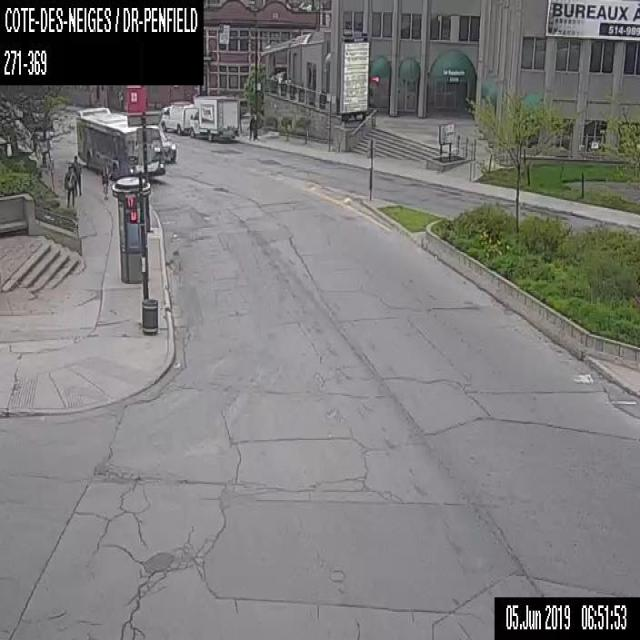bus: (76, 104, 166, 179)
pedestrian: (64, 165, 76, 208), (69, 154, 81, 195), (100, 162, 108, 202), (248, 113, 256, 139)
vehicle: (189, 94, 239, 141), (160, 100, 198, 134), (158, 124, 176, 164)
